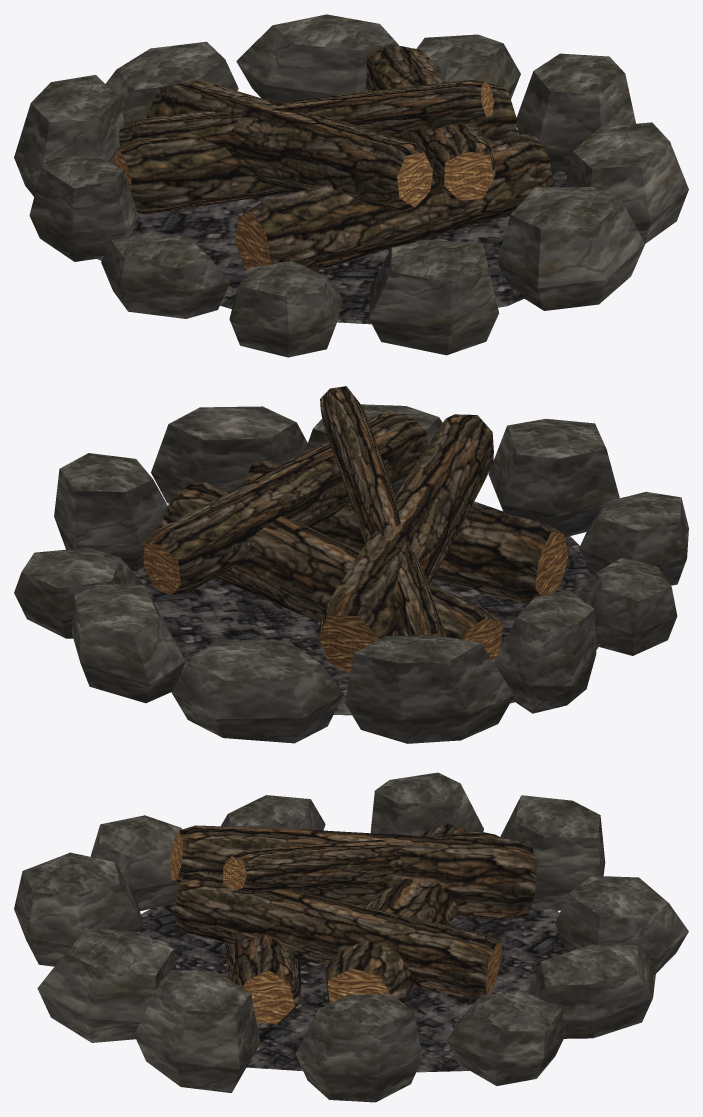
The model's file is Fogueira.glb.
3 renders of one model, top to bottom at view 1: azimuth 30°, elevation 25°; view 2: azimuth 150°, elevation 25°; view 3: azimuth 270°, elevation 25°, orthographic. The views are drawn at different scales.
Visible parts, largest first — view 1: Pedras, Lenha, Cinzas, Cortes da lenha; view 2: Pedras, Lenha, Cinzas, Cortes da lenha; view 3: Pedras, Lenha, Cinzas, Cortes da lenha.
Boxes of the visible parts, bbox=[...] form: Pedras: bbox=[14, 14, 688, 357]; Lenha: bbox=[116, 44, 553, 270]; Cinzas: bbox=[93, 129, 567, 324]; Cortes da lenha: bbox=[113, 82, 493, 269]; Pedras: bbox=[14, 404, 688, 743]; Lenha: bbox=[144, 386, 563, 639]; Cinzas: bbox=[132, 501, 600, 715]; Cortes da lenha: bbox=[143, 531, 568, 674]; Pedras: bbox=[14, 772, 688, 1102]; Lenha: bbox=[171, 823, 537, 1024]; Cinzas: bbox=[140, 903, 569, 1072]; Cortes da lenha: bbox=[170, 830, 502, 1024].
Bounding box in the file's own units: 1.4 × 0.3822 × 1.52.
4 materials, 4 textured.
